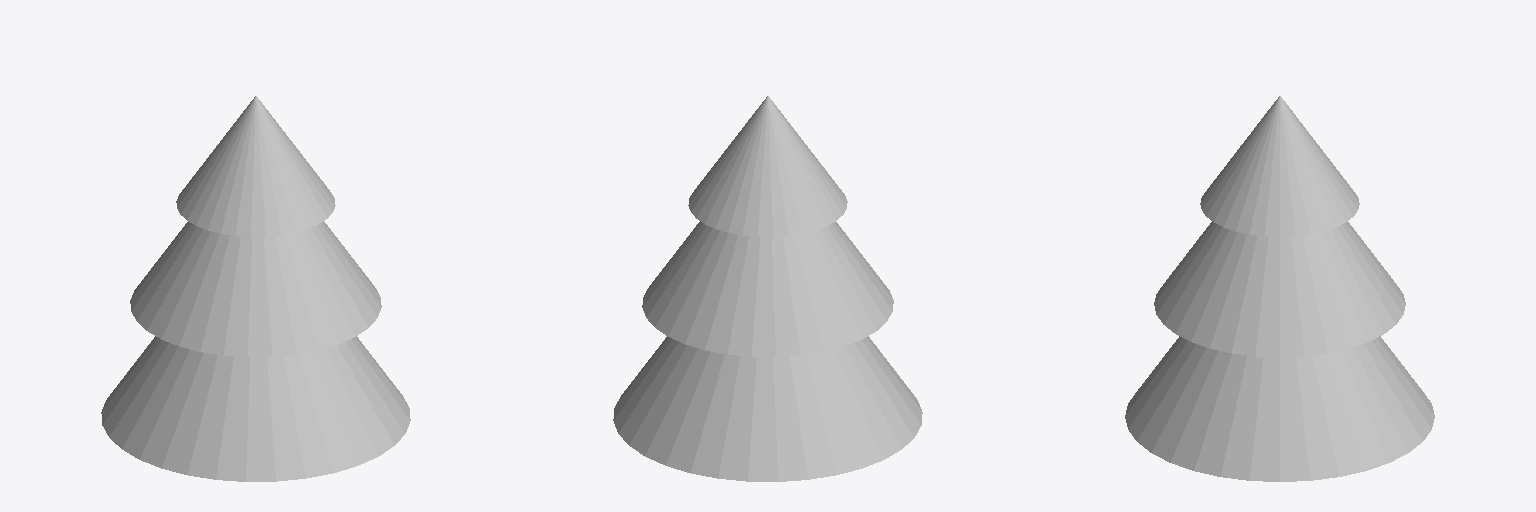
Rendered from placeholder_tree.obj.
The picture shows the model from 3 angles: view 1: azimuth 30°, elevation 25°; view 2: azimuth 150°, elevation 25°; view 3: azimuth 270°, elevation 25°; orthographic projection.
Visible parts, largest first — view 1: Cone; view 2: Cone; view 3: Cone.
Boxes of the visible parts, box(x1,y1,x2,y2) form: Cone: box(101, 96, 410, 481); Cone: box(613, 96, 922, 481); Cone: box(1125, 96, 1434, 481).
Size of the model in its own units: 4 by 4.58 by 4.